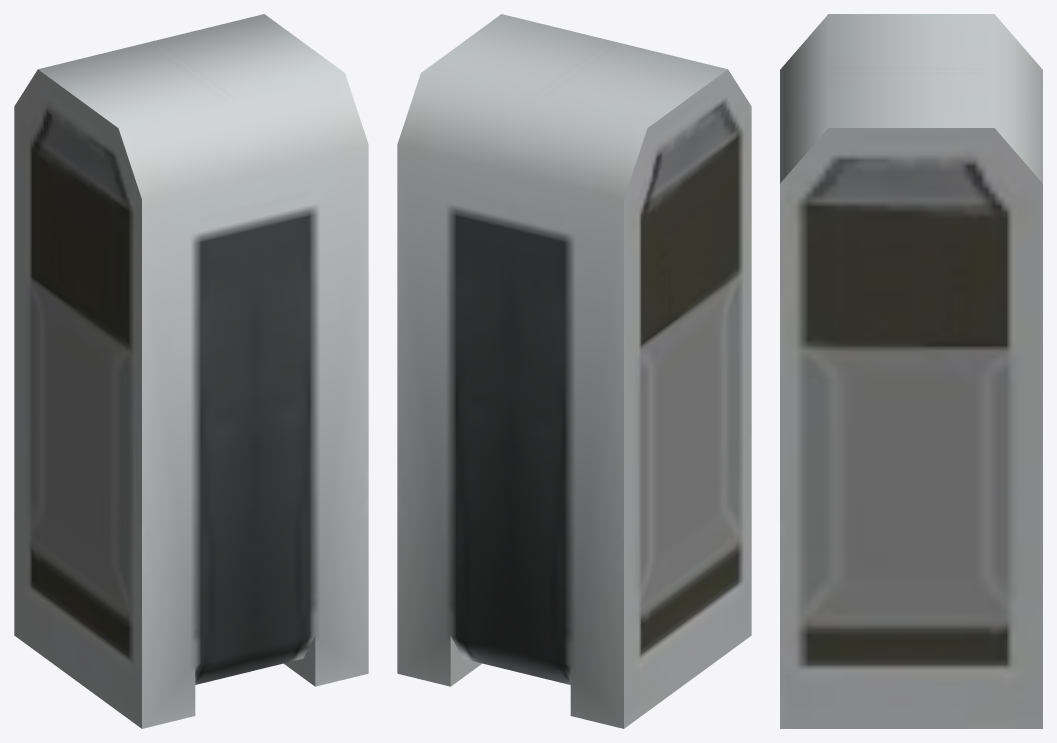
File: Part - Pillar 03-Dtm7i_nw.glb
The picture shows the model from 3 angles, left to right: view 1: azimuth 30°, elevation 25°; view 2: azimuth 150°, elevation 25°; view 3: azimuth 270°, elevation 25°; orthographic projection. The views are drawn at different scales.
Parts seen in each view (by area): view 1: Pillar_03; view 2: Pillar_03; view 3: Pillar_03.
Part boxes in pixels (left/top/right/bottom): Pillar_03: left=14, top=14, right=368, bottom=728; Pillar_03: left=397, top=14, right=751, bottom=728; Pillar_03: left=780, top=14, right=1042, bottom=728.
Bounding box in the file's own units: 0.3053 × 0.7513 × 0.2979.
1 material, 1 textured.
